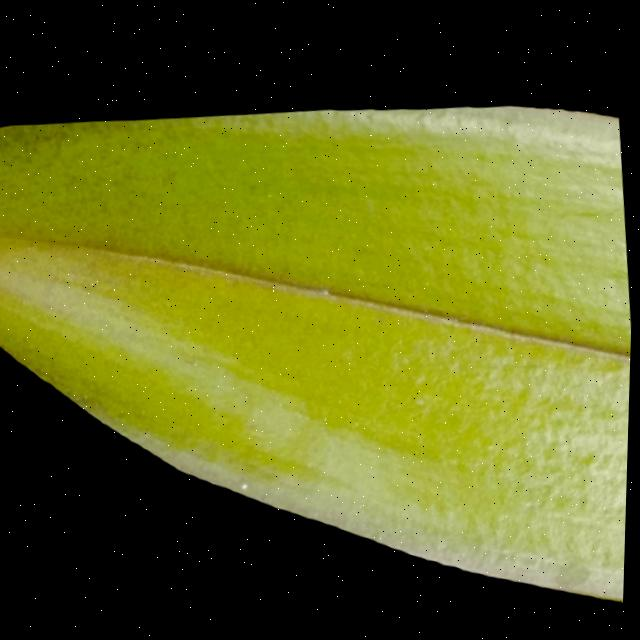mite: (408, 387, 435, 409), (577, 442, 602, 464), (235, 474, 256, 492), (581, 446, 599, 461), (414, 391, 429, 404), (240, 478, 252, 488)
spots: (0, 89, 633, 633)
